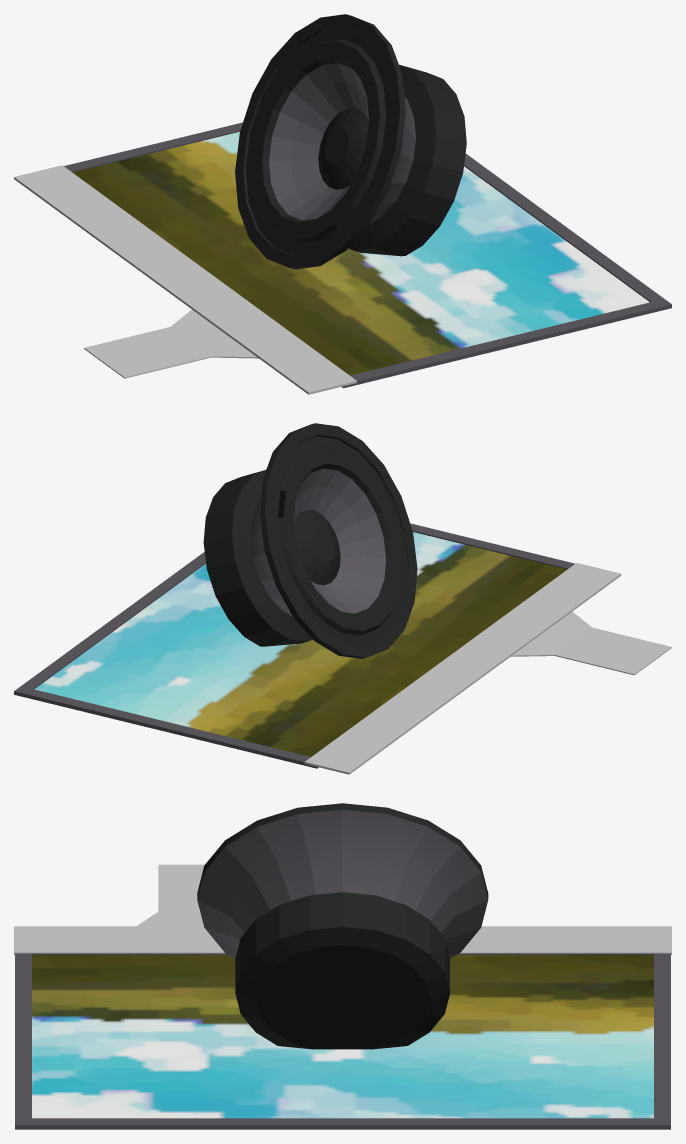
The model's file is Multimedia module.fbx.
3 renders of one model, top to bottom at view 1: azimuth 30°, elevation 25°; view 2: azimuth 150°, elevation 25°; view 3: azimuth 270°, elevation 25°, orthographic. The views are drawn at different scales.
Visible parts, largest first — view 1: multimedia_module; view 2: multimedia_module; view 3: multimedia_module.
Part boxes in pixels (x1,y1,x2,y2): multimedia_module: (14, 14, 671, 394); multimedia_module: (14, 423, 671, 774); multimedia_module: (14, 803, 671, 1129).
Bounding box in the file's own units: 1.41 × 0.6408 × 1.49.
